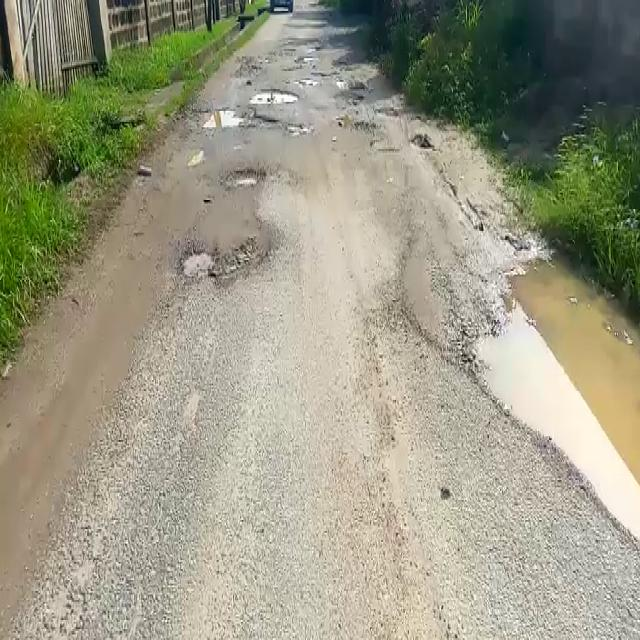Pothole: (462, 254, 640, 560), (178, 240, 264, 285), (185, 106, 243, 129), (224, 164, 266, 188), (248, 87, 300, 106)
